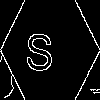S: (25, 25, 54, 71)
